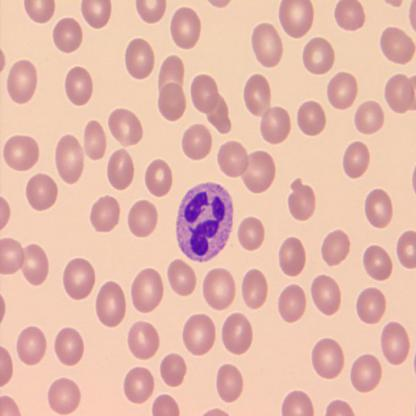Segmented neutrophil: (174, 179, 235, 262)
